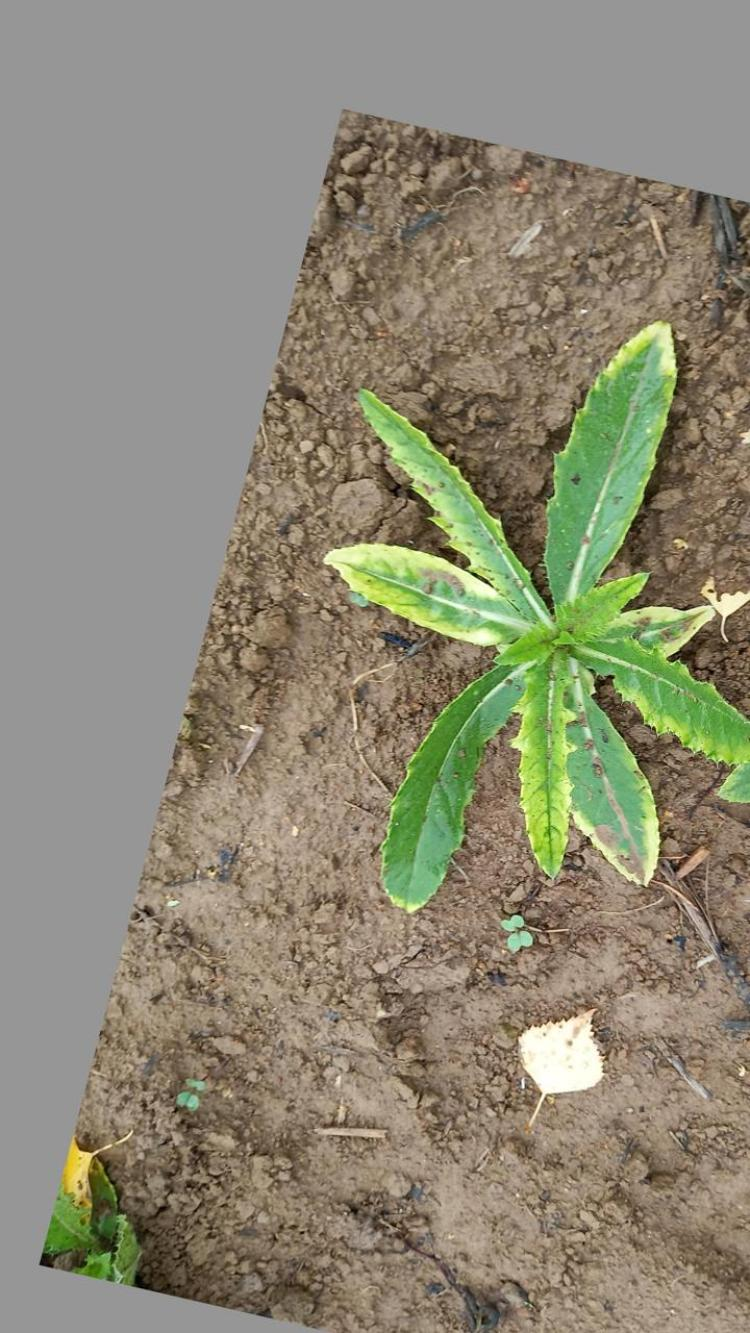bodyak: (339, 317, 696, 910)
